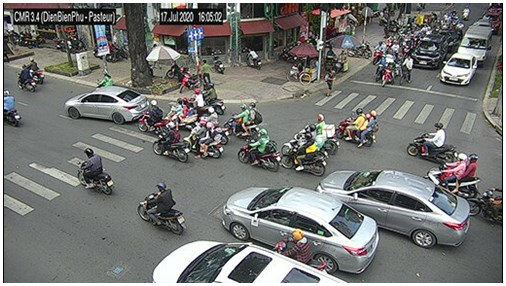di_bo: (325, 66, 336, 97)
xe_dap: (400, 55, 413, 85)
xe_hoi: (223, 186, 379, 275), (315, 169, 470, 249), (152, 240, 350, 283), (64, 86, 149, 124), (440, 52, 477, 88), (413, 34, 447, 67)
xe_khach: (457, 26, 493, 62)
xe_may: (138, 181, 186, 236), (425, 153, 479, 199), (274, 228, 328, 274), (406, 123, 458, 162), (280, 132, 326, 176), (238, 128, 279, 172), (76, 147, 113, 194), (336, 109, 379, 148), (297, 114, 340, 153), (185, 119, 222, 161), (153, 122, 188, 163), (224, 103, 263, 137), (467, 188, 502, 223), (139, 100, 167, 131), (166, 97, 195, 125), (203, 82, 226, 114), (4, 90, 20, 128), (190, 90, 213, 115), (18, 64, 36, 93), (30, 57, 45, 84), (382, 60, 395, 86), (373, 40, 385, 65), (375, 54, 385, 82), (95, 72, 113, 87), (463, 5, 470, 21)
